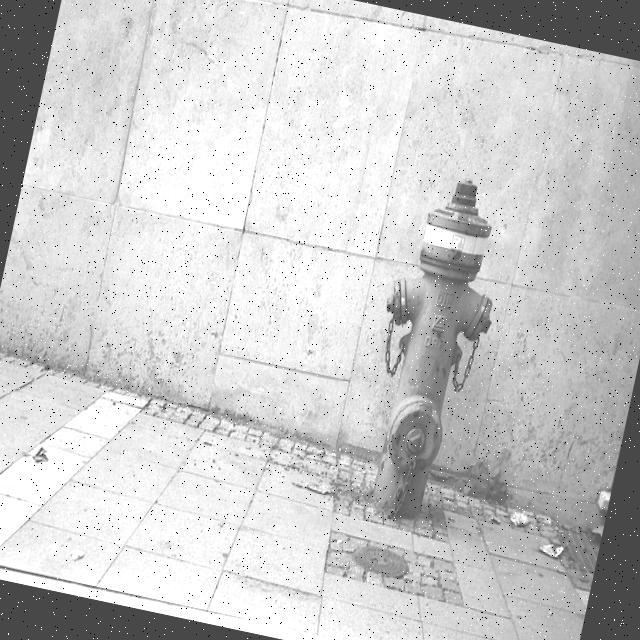fire_hydrant: (343, 168, 519, 528)
